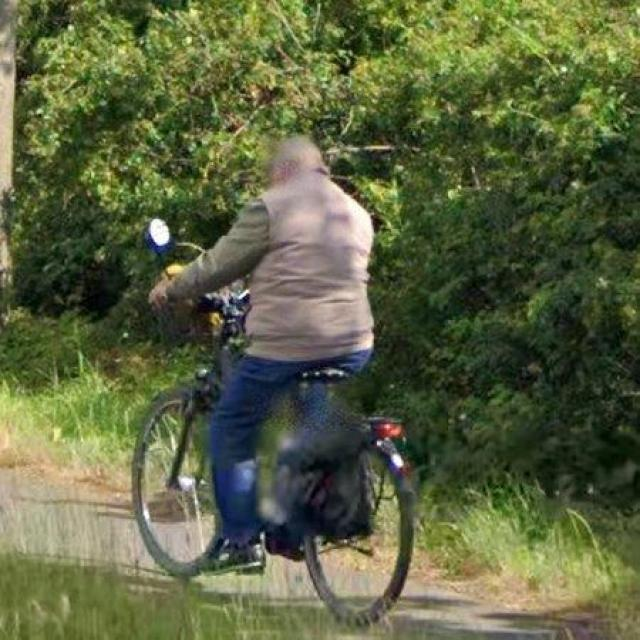bicycle: (134, 291, 252, 579), (306, 421, 417, 625)
